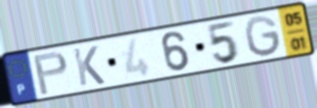4: (122, 35, 153, 80)
5: (203, 18, 243, 66)
6: (160, 29, 192, 73)
G: (242, 14, 284, 59)
K: (70, 44, 107, 88)
P: (31, 49, 70, 97)
